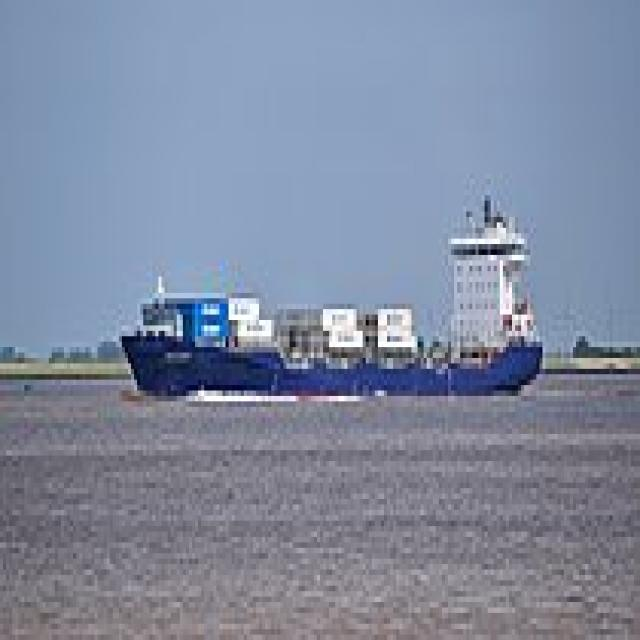Ship: (114, 196, 550, 413)
